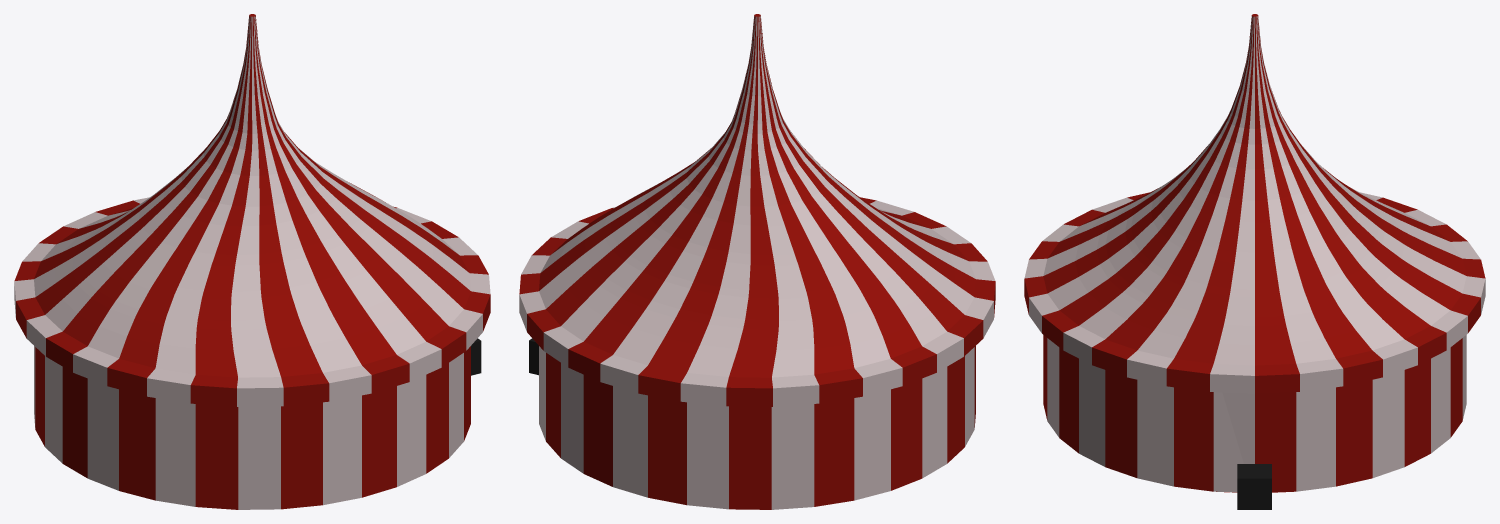
File: MainMenuTentInterior.fbx
3 renders of one model, left to right at view 1: azimuth 30°, elevation 25°; view 2: azimuth 150°, elevation 25°; view 3: azimuth 270°, elevation 25°, orthographic. The views are drawn at different scales.
Visible parts, largest first — view 1: MainTent; view 2: MainTent; view 3: MainTent, BlackoutCube.
Part boxes in pixels (x1=…): MainTent: x1=14, y1=14, x2=490, y2=509; MainTent: x1=519, y1=14, x2=995, y2=509; MainTent: x1=1024, y1=14, x2=1485, y2=492; BlackoutCube: x1=1237, y1=464, x2=1271, y2=509.
Bounding box in the file's own units: 18907 × 17153 × 18329.
